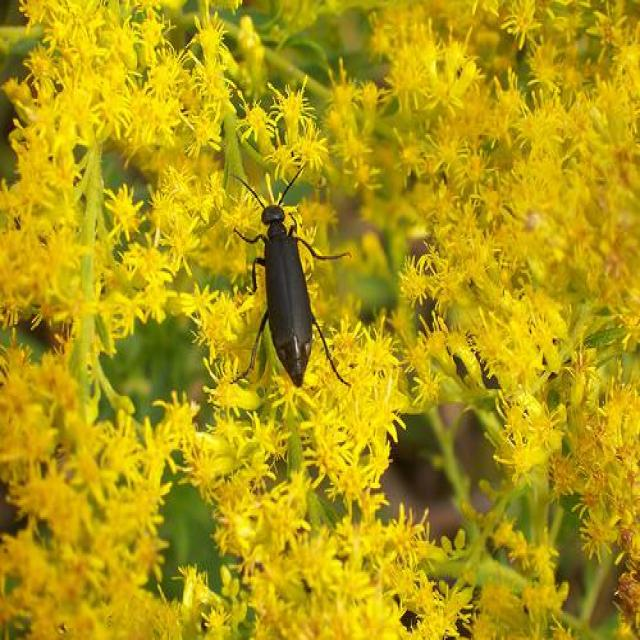BlisterBeetle-Adult-: (222, 158, 368, 400)
